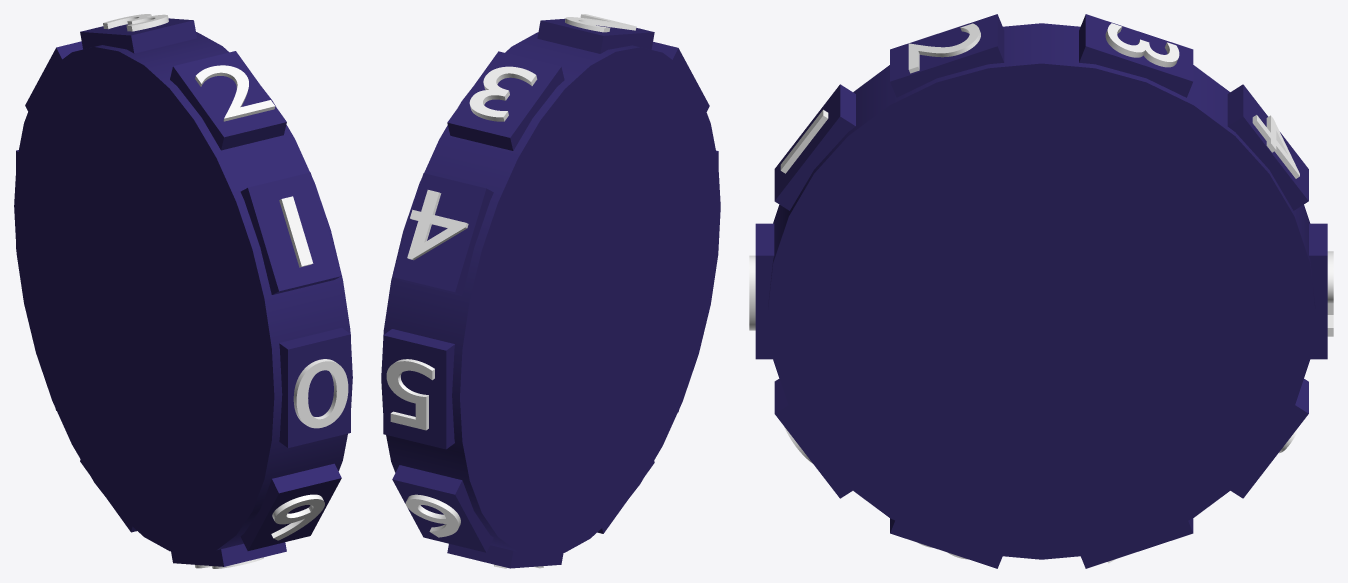
File: Combination_Lock_WheelV3.fbx
3 views of the same model, side by side, from view 1: azimuth 30°, elevation 25°; view 2: azimuth 150°, elevation 25°; view 3: azimuth 270°, elevation 25° (orthographic). The views are drawn at different scales.
Parts seen in each view (by area): view 1: Cylinder, Cube.003, Cube.001, Cube.004, Cube.002, Cube, Text, Text.002, Text.009, Text.001, Text.003; view 2: Cylinder, Cube.002, Cube.004, Cube, Cube.003, Cube.001, Text.004, Text.005, Text.003, Text.006, Text.002; view 3: Cylinder, Cube.001, Cube, Cube.003, Cube.002, Cube.004, Text.003, Text.002, Text.004, Text.001.
Boxes of the visible parts, <box> form: Cylinder: <box>14,32,352,555</box>; Cube.003: <box>55,172,341,410</box>; Cube.001: <box>80,51,286,532</box>; Cube.004: <box>16,150,350,447</box>; Cube.002: <box>25,41,341,550</box>; Cube: <box>80,18,286,566</box>; Text: <box>293,359,348,428</box>; Text.002: <box>195,65,275,121</box>; Text.009: <box>271,494,324,540</box>; Text.001: <box>279,196,313,267</box>; Text.003: <box>103,14,168,31</box>; Cylinder: <box>381,32,720,557</box>; Cube.002: <box>392,173,678,412</box>; Cube.004: <box>383,150,718,449</box>; Cube: <box>447,51,654,533</box>; Cube.003: <box>392,41,709,552</box>; Cube.001: <box>447,18,654,568</box>; Text.004: <box>407,190,468,259</box>; Text.005: <box>386,359,434,430</box>; Text.003: <box>469,66,537,121</box>; Text.006: <box>405,494,460,537</box>; Text.002: <box>565,14,636,32</box>; Cylinder: <box>768,23,1315,559</box>; Cube.001: <box>890,14,1193,568</box>; Cube: <box>890,14,1193,568</box>; Cube.003: <box>774,84,1308,498</box>; Cube.002: <box>774,84,1308,498</box>; Cube.004: <box>755,223,1327,359</box>; Text.003: <box>1105,23,1179,67</box>; Text.002: <box>908,23,980,73</box>; Text.004: <box>1252,115,1299,178</box>; Text.001: <box>780,109,828,173</box>.
Bounding box in the file's own units: 25 × 151 × 153.
